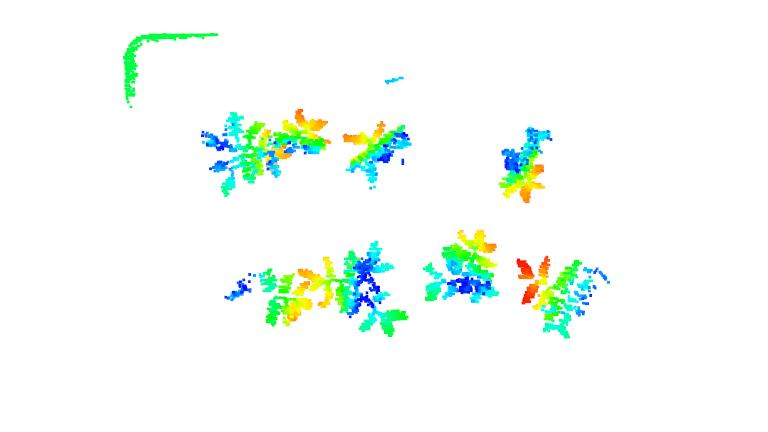chickpea: (302, 240, 408, 337), (512, 253, 610, 338), (200, 106, 274, 194), (420, 228, 500, 302), (495, 122, 555, 205), (230, 267, 311, 327), (342, 118, 410, 189), (267, 105, 337, 167)
